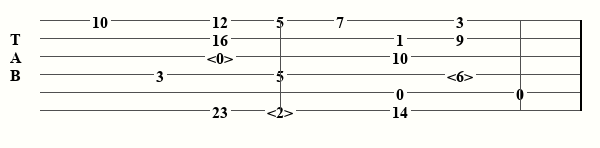0: (396, 85, 408, 100), (516, 85, 528, 100)
1: (396, 31, 408, 46)
10: (92, 13, 112, 28), (392, 49, 412, 64)
12: (212, 13, 232, 28)
14: (392, 103, 412, 118)
16: (212, 31, 232, 46)
23: (212, 103, 232, 118)
3: (156, 67, 168, 82), (456, 13, 468, 28)
5: (276, 67, 288, 82), (276, 13, 288, 28)
7: (336, 13, 348, 28)
9: (456, 31, 468, 46)
harmonic: (207, 49, 237, 64), (267, 103, 297, 118), (447, 67, 477, 82)
